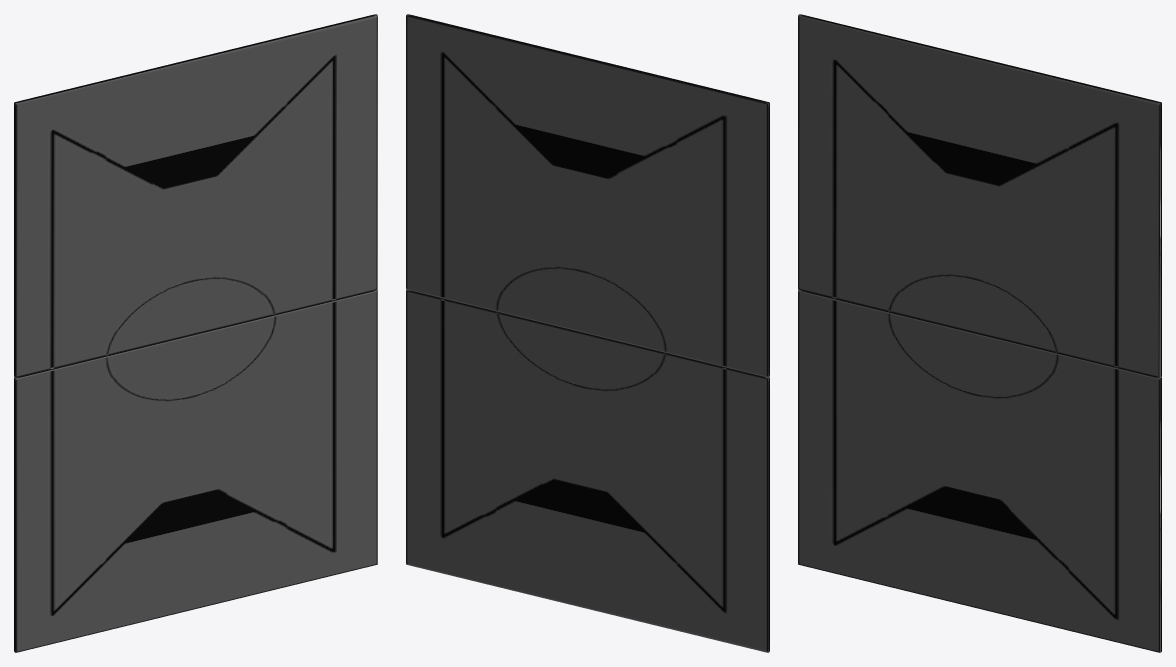
The model's file is indoorDoor_exported.fbx.
The picture shows the model from 3 angles, left to right: view 1: azimuth 30°, elevation 25°; view 2: azimuth 150°, elevation 25°; view 3: azimuth 330°, elevation 25°; orthographic projection.
Visible parts, largest first — view 1: Right_Door, Left_Door; view 2: Right_Door, Left_Door; view 3: Right_Door, Left_Door.
Part boxes in pixels (x1,y1,x2,y2): Right_Door: [14, 14, 377, 377]; Left_Door: [14, 290, 377, 652]; Right_Door: [406, 14, 769, 377]; Left_Door: [406, 290, 769, 652]; Right_Door: [798, 14, 1161, 377]; Left_Door: [798, 290, 1161, 652].
Bounding box in the file's own units: 3.75 × 5.43 × 0.0304.
